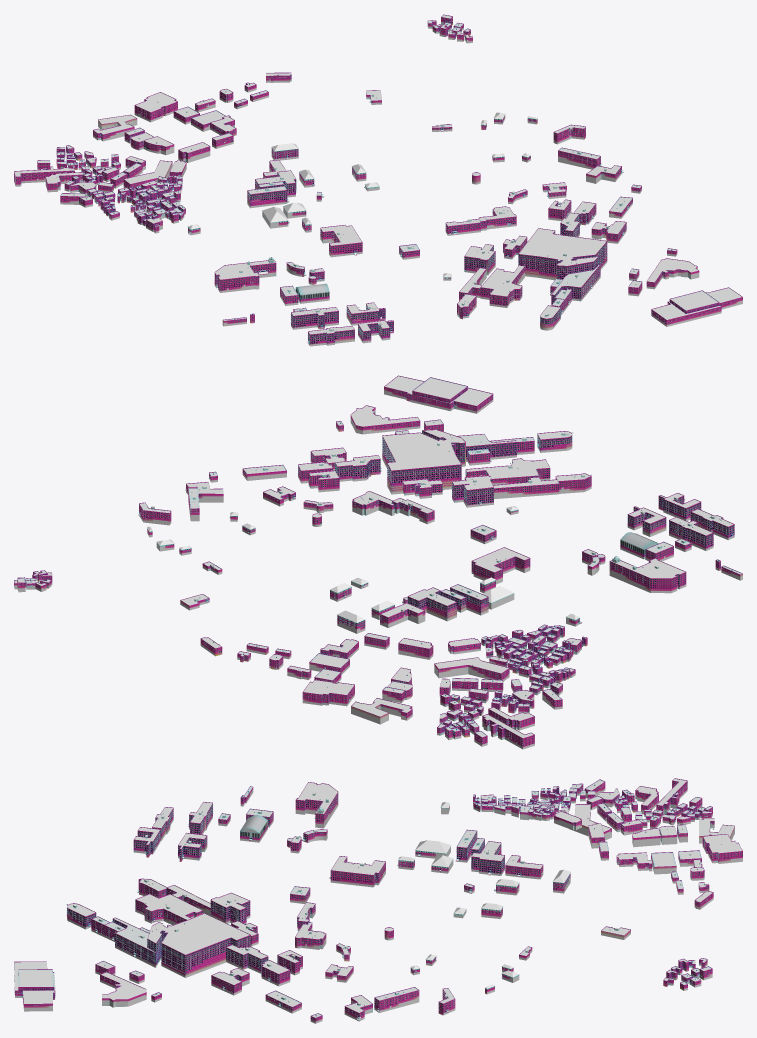
File: campus_buildings.glb
3 renders of one model, top to bottom at view 1: azimuth 30°, elevation 25°; view 2: azimuth 150°, elevation 25°; view 3: azimuth 270°, elevation 25°, orthographic. The views are drawn at different scales.
Visible parts, largest first — view 1: bld_472648570, bld_222843398, bld_230178502, bld_473006251, bld_256933753, bld_603454978, bld_429249489, bld_256932940, bld_429077753, bld_880321353, bld_324328481, bld_224955691 (+11 smaller); view 2: bld_472648570, bld_222843398, bld_230178502, bld_473006251, bld_256933753, bld_603454978, bld_429077757, bld_429077753, bld_324328481, bld_880321353, bld_473006250, bld_246156123 (+17 smaller); view 3: bld_472648570, bld_473006251, bld_222843398, bld_256933753, bld_429249489, bld_230178502, bld_603454978, bld_324328481, bld_429077753, bld_246156123, bld_429249490, bld_628197716 (+25 smaller).
Boxes of the visible parts, <box> form: bld_472648570: <box>518,228,607,280</box>; bld_222843398: <box>214,257,276,292</box>; bld_230178502: <box>651,287,742,326</box>; bld_473006251: <box>480,265,524,307</box>; bld_256933753: <box>320,224,362,257</box>; bld_603454978: <box>646,258,699,289</box>; bld_429249489: <box>551,264,600,304</box>; bld_256932940: <box>291,307,338,329</box>; bld_429077753: <box>134,92,177,122</box>; bld_880321353: <box>93,114,137,141</box>; bld_324328481: <box>464,244,495,275</box>; bld_224955691: <box>308,325,354,346</box>; bld_472648570: <box>382,429,465,494</box>; bld_222843398: <box>609,556,686,593</box>; bld_230178502: <box>384,375,493,413</box>; bld_473006251: <box>465,458,550,484</box>; bld_256933753: <box>471,547,530,584</box>; bld_603454978: <box>350,405,420,434</box>; bld_429077757: <box>434,657,509,681</box>; bld_429077753: <box>302,679,354,706</box>; bld_324328481: <box>452,475,493,507</box>; bld_880321353: <box>351,698,412,724</box>; bld_473006250: <box>493,477,559,498</box>; bld_246156123: <box>407,587,456,621</box>; bld_472648570: <box>147,913,250,977</box>; bld_473006251: <box>135,893,202,925</box>; bld_222843398: <box>295,782,338,828</box>; bld_256933753: <box>329,856,385,887</box>; bld_429249489: <box>112,917,161,967</box>; bld_230178502: <box>14,961,55,1011</box>; bld_603454978: <box>100,971,146,1007</box>; bld_324328481: <box>210,892,250,923</box>; bld_429077753: <box>702,833,742,863</box>; bld_246156123: <box>471,841,504,875</box>; bld_429249490: <box>226,944,268,973</box>; bld_628197716: <box>18,969,54,990</box>.
Size of the model in its own units: 965 by 103 by 1224.
